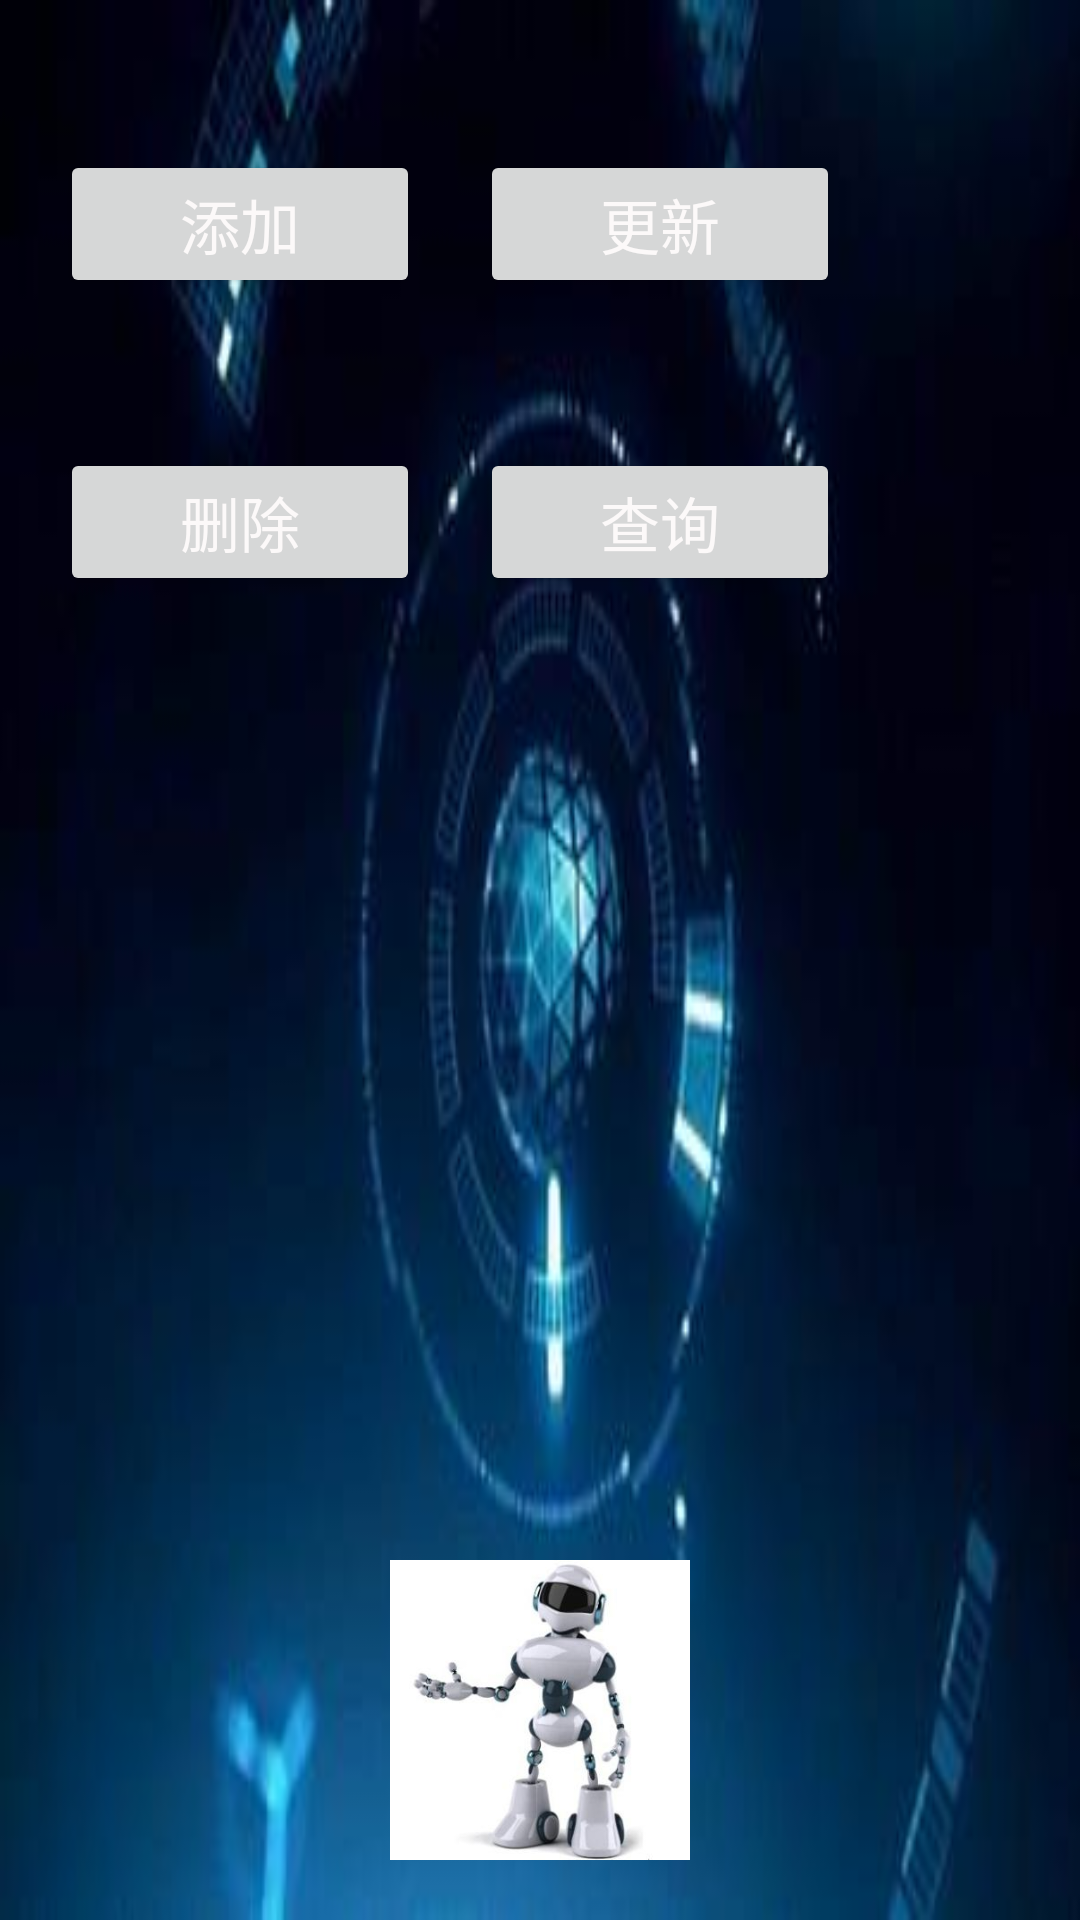

Point at icon controls on the screen. Image size 1080w x 1920h, points as point (x, y).
robot: point (540, 1710)
